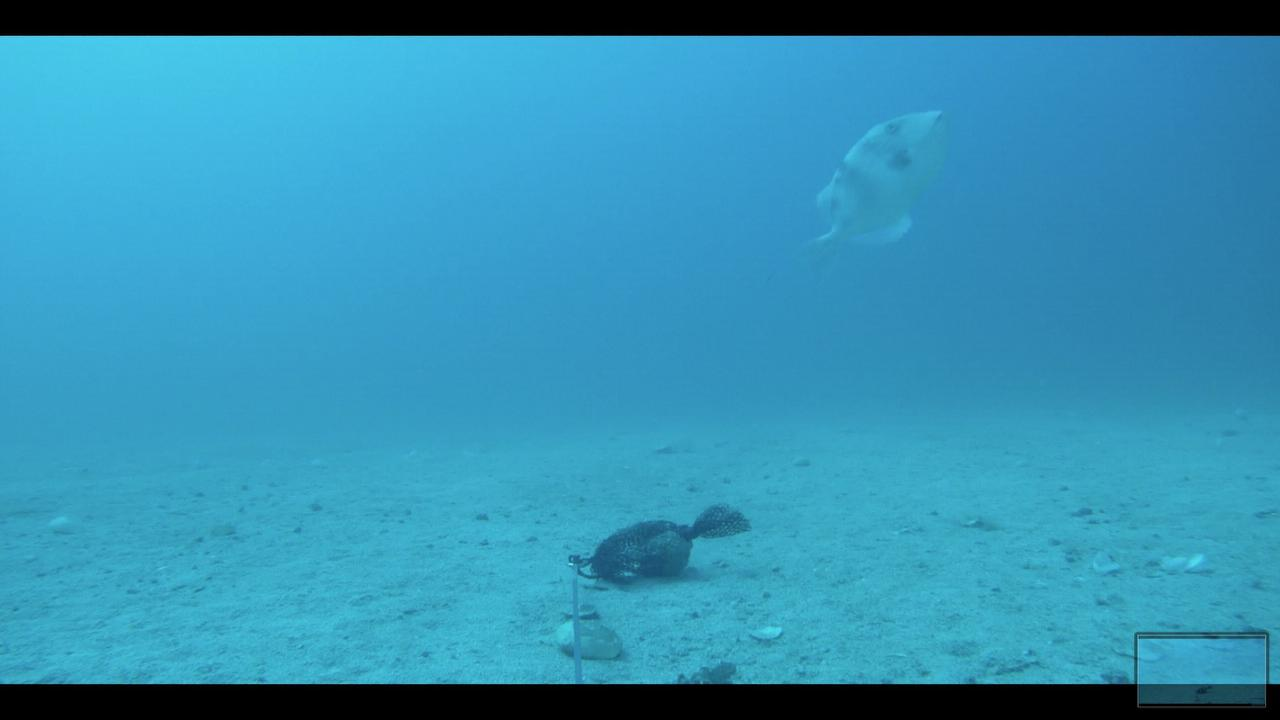balistes: (762, 95, 951, 296)
